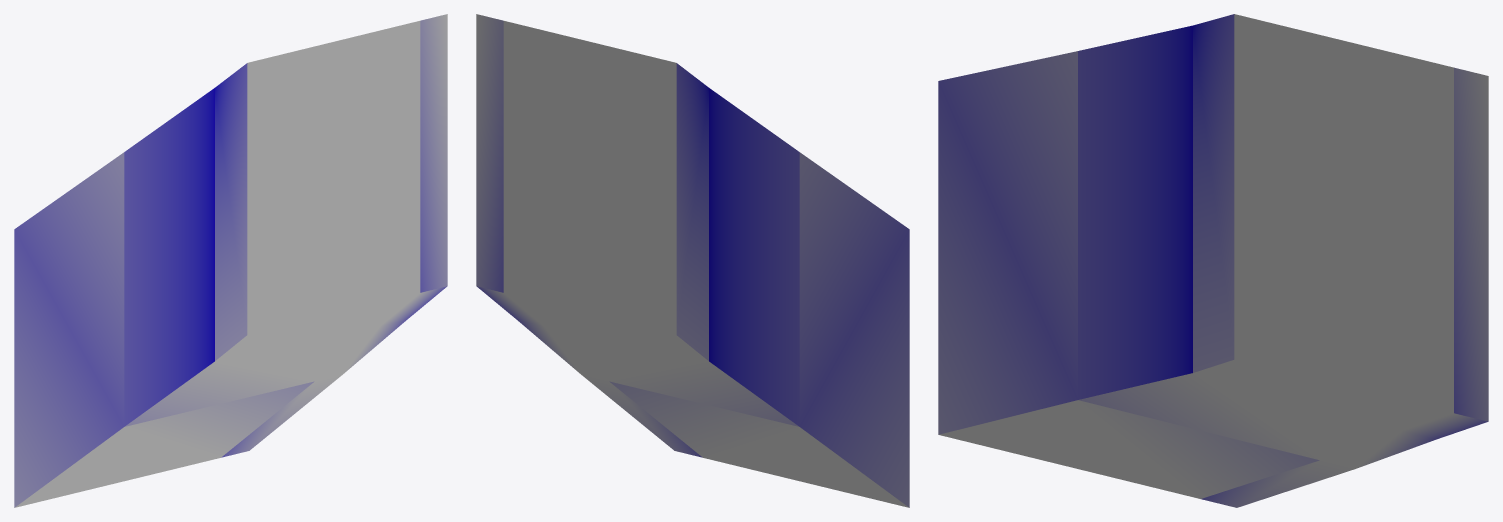
File: OutSideStand_V_Shadow.fbx
3 views of the same model, side by side, from view 1: azimuth 30°, elevation 25°; view 2: azimuth 150°, elevation 25°; view 3: azimuth 330°, elevation 25° (orthographic). The views are drawn at different scales.
Parts seen in each view (by area): view 1: OutSideStand_V_Shadow; view 2: OutSideStand_V_Shadow; view 3: OutSideStand_V_Shadow.
Boxes of the visible parts, x1,y1,x2,y2 form: OutSideStand_V_Shadow: (14, 14, 447, 507); OutSideStand_V_Shadow: (476, 14, 909, 507); OutSideStand_V_Shadow: (938, 14, 1488, 507).
Size of the model in its own units: 5.52 by 4.73 by 9.22e-07.
